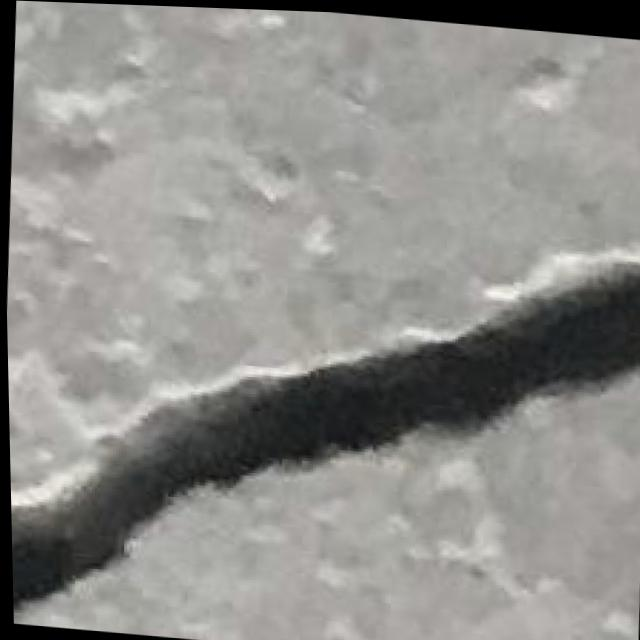Crack: (3, 181, 640, 640)
